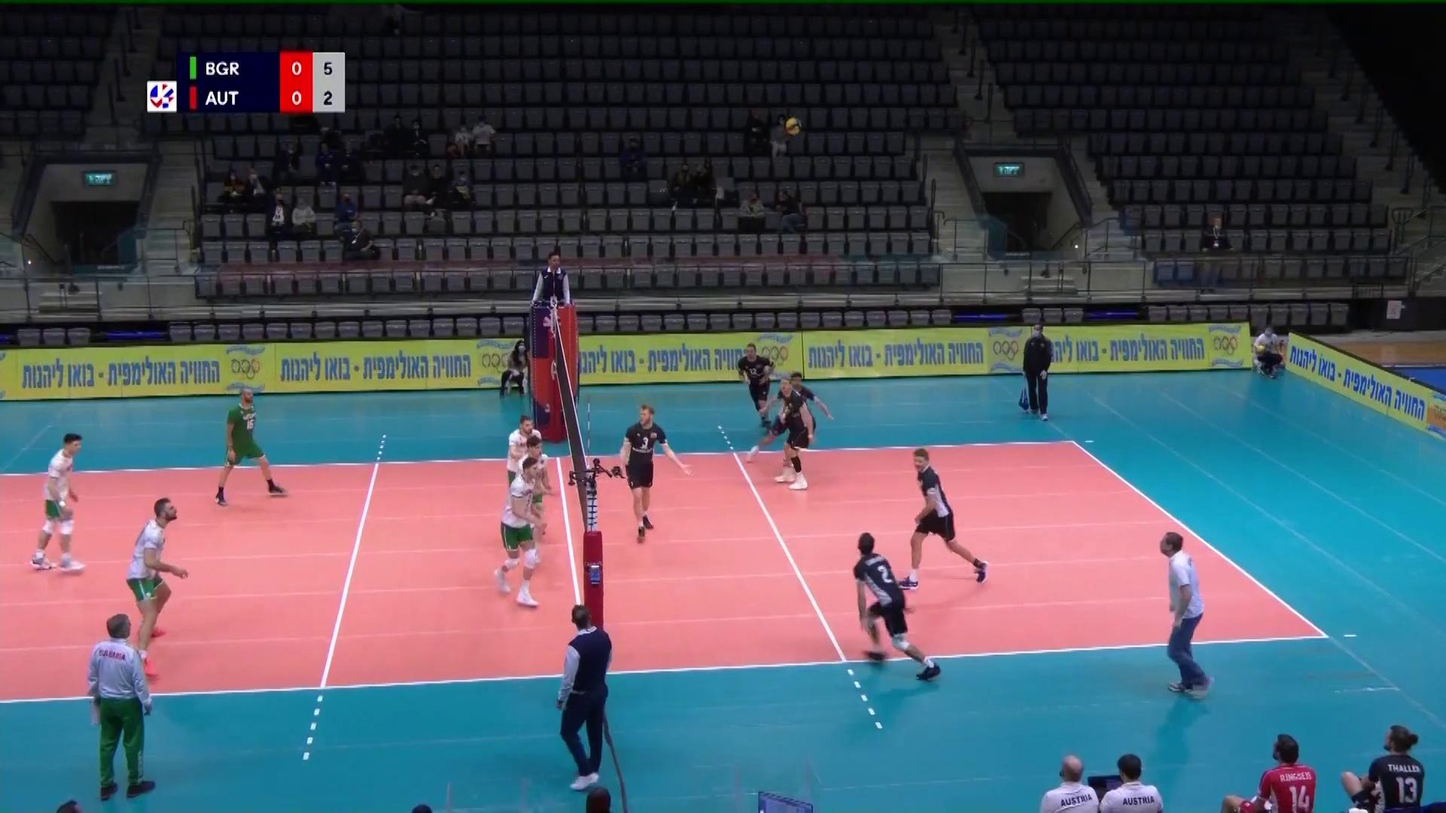ball: (785, 116, 803, 136)
